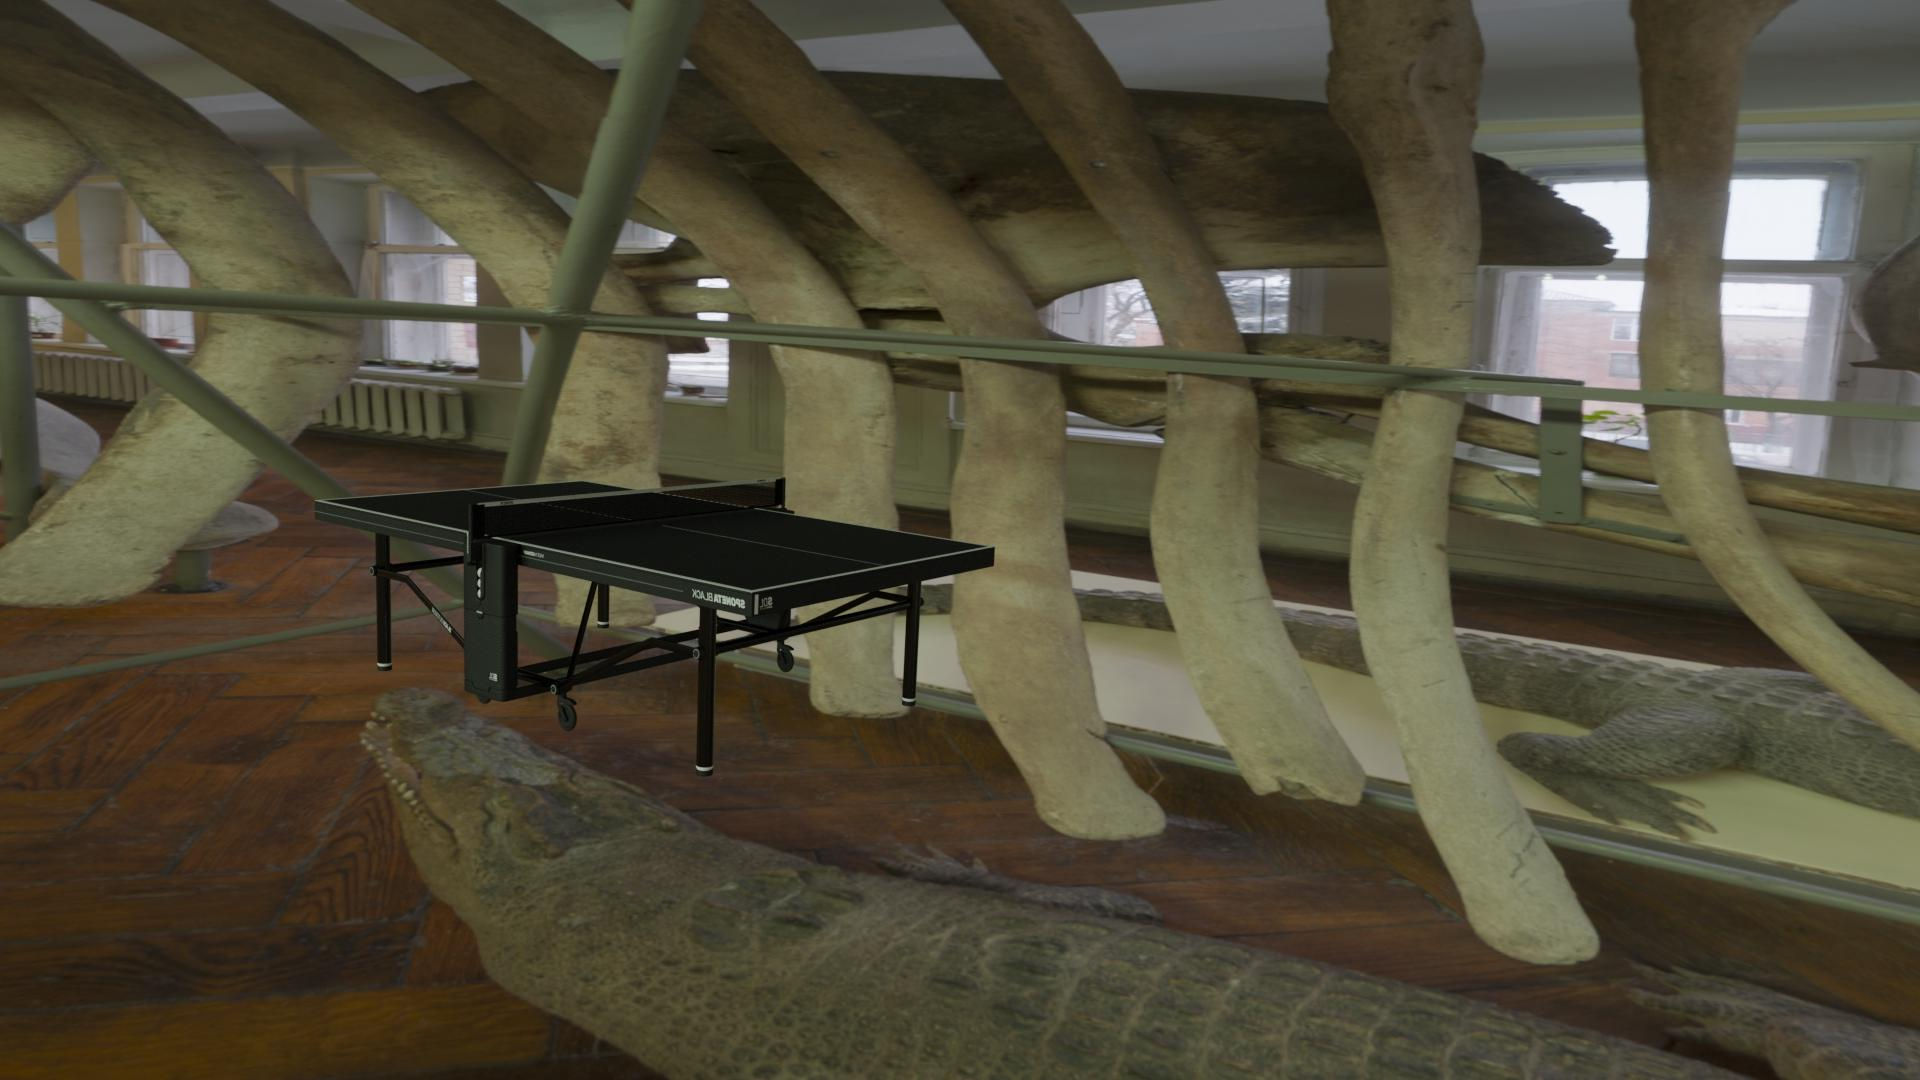table: (322, 481, 989, 591)
